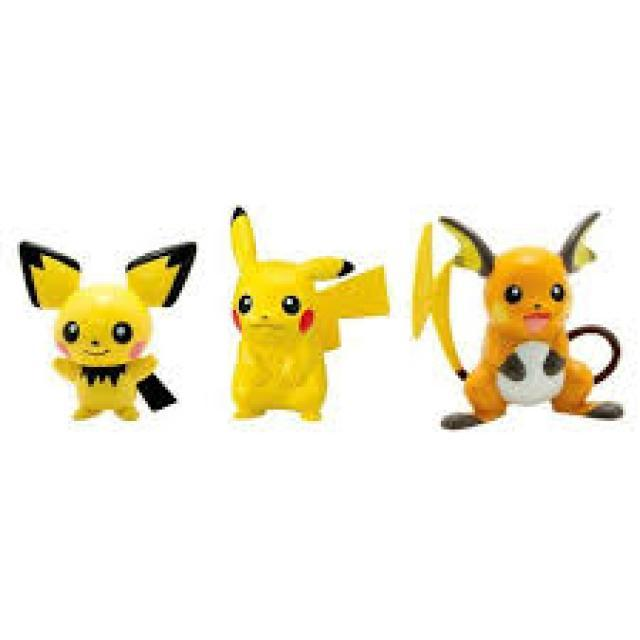pichu: (28, 220, 208, 436)
